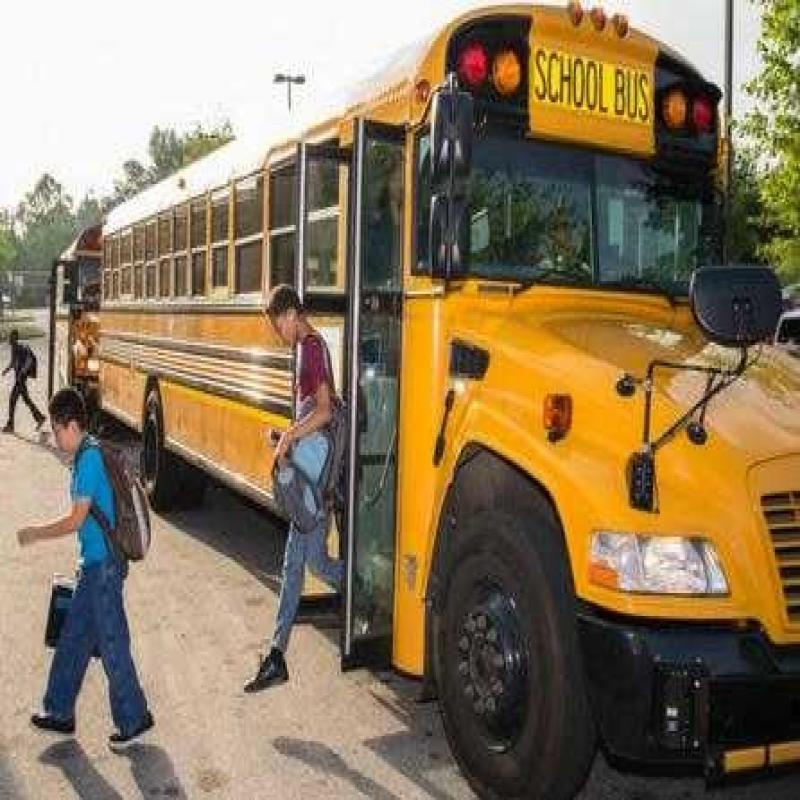bus: (49, 48, 800, 658)
